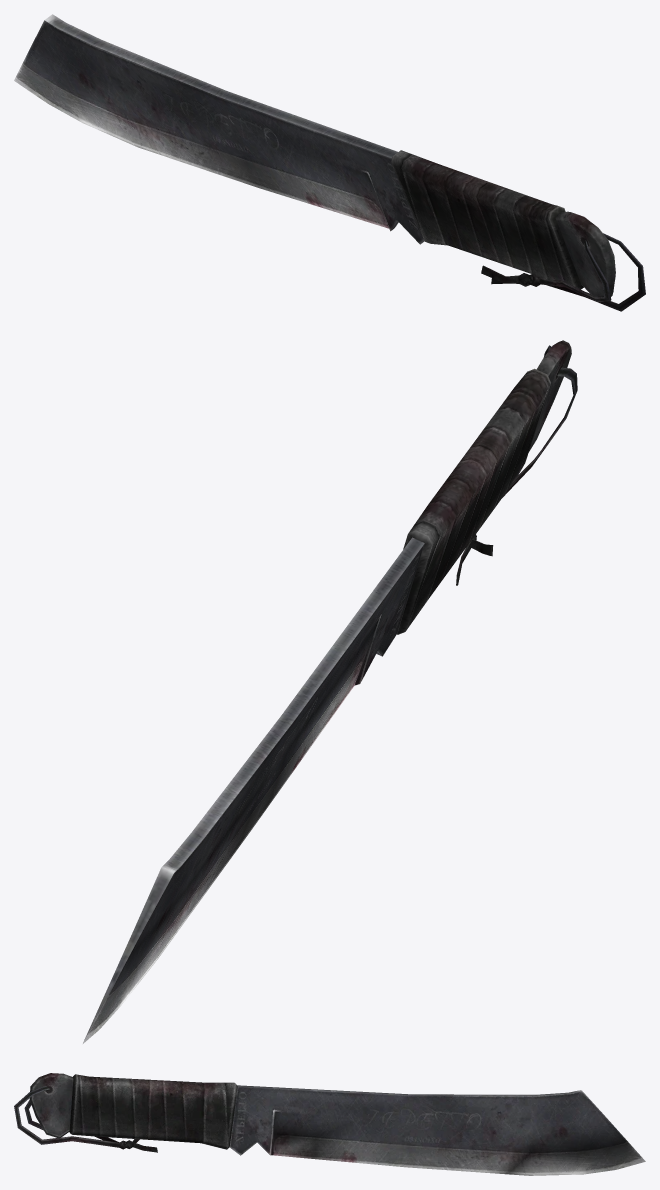
The picture shows the model from 3 angles, top to bottom: view 1: azimuth 30°, elevation 25°; view 2: azimuth 150°, elevation 25°; view 3: azimuth 270°, elevation 25°; orthographic projection. The views are drawn at different scales.
Visible parts, largest first — view 1: gh5007; view 2: gh5007; view 3: gh5007.
Boxes of the visible parts, <box> form: gh5007: <box>14,14,645,311</box>; gh5007: <box>83,340,577,1043</box>; gh5007: <box>14,1073,645,1175</box>.
Bounding box in the file's own units: 0.0794 × 0.0968 × 0.4455.
1 material, 1 textured.
